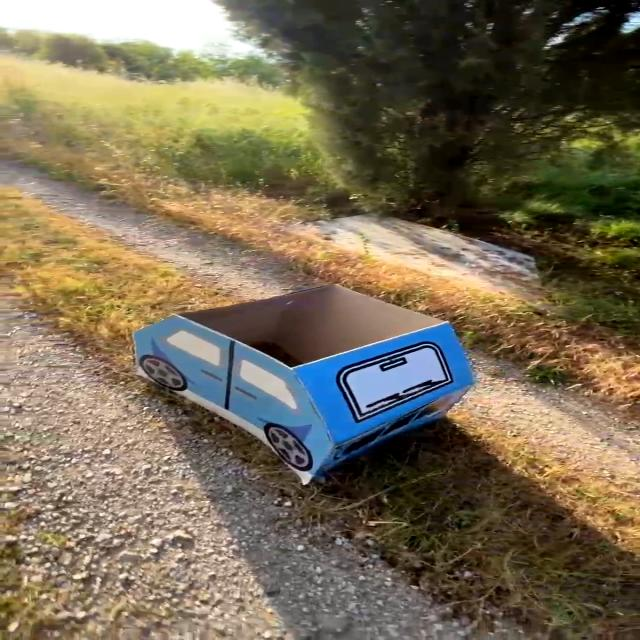blue_car: (102, 274, 514, 514)
